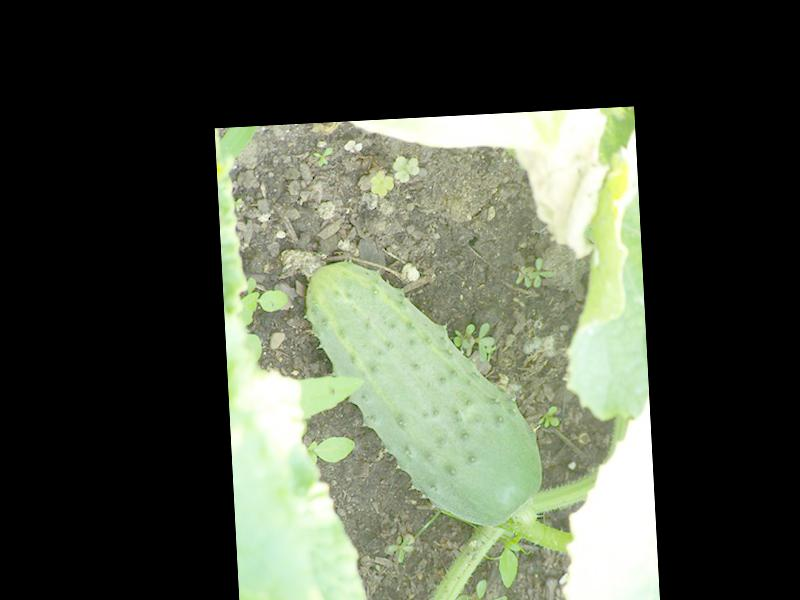Cucumber: (304, 252, 545, 537)
